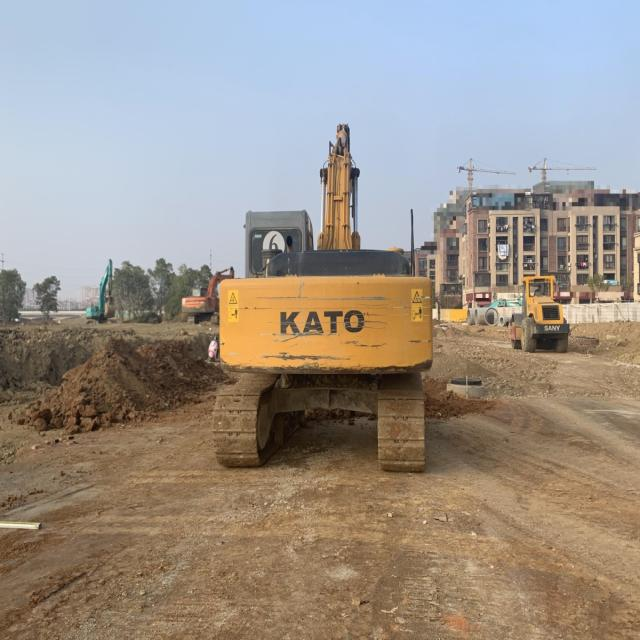crane: (528, 159, 598, 192), (457, 159, 516, 193)
excavator: (211, 122, 432, 471), (181, 266, 234, 324), (84, 258, 117, 324)
